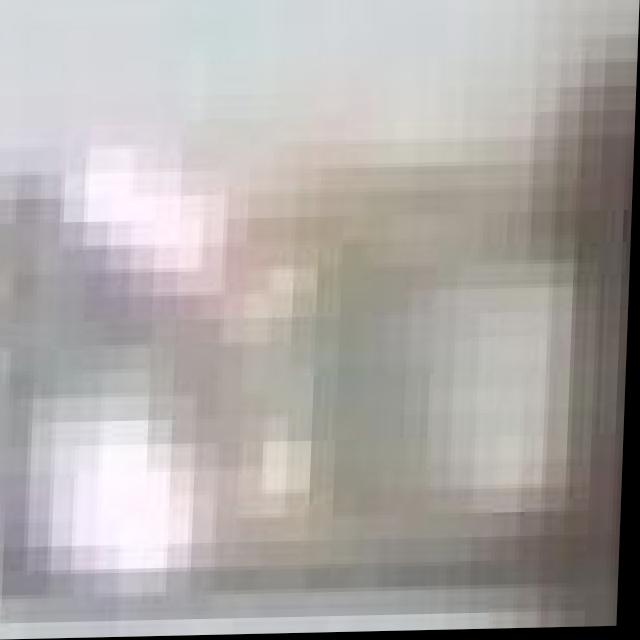transistor: (181, 0, 640, 637)
